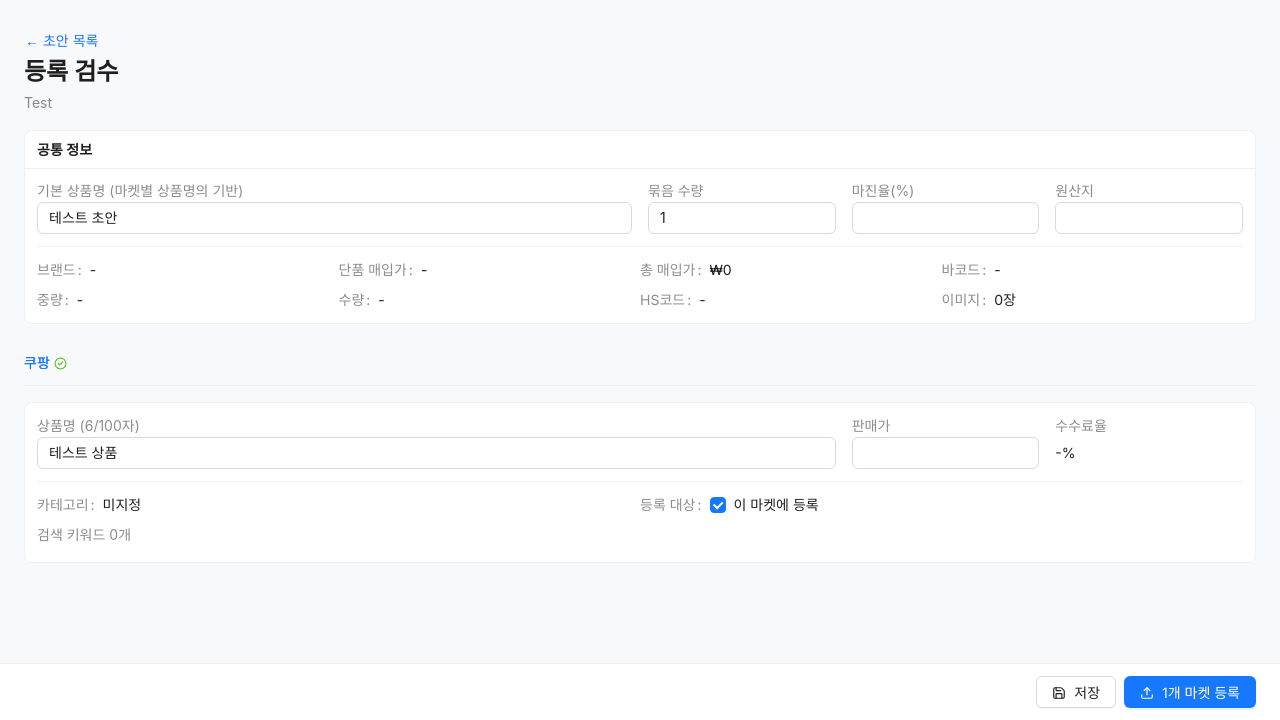
it: 추천상품 초안 등록 대상 › 등록 요청 오류 후 현재 초안을 다시 읽어 생성된 상품의 공통정보를 즉시 잠근다
Expected: the field showing "테스트 초안" below "기본 상품명 (마켓별 상품명의 기반)" is shown, x1=37 y1=202 x2=632 y2=234
Click the button "1개 마켓 등록" at point(1190, 692), box x1=1124 y1=676 x2=1256 y2=708
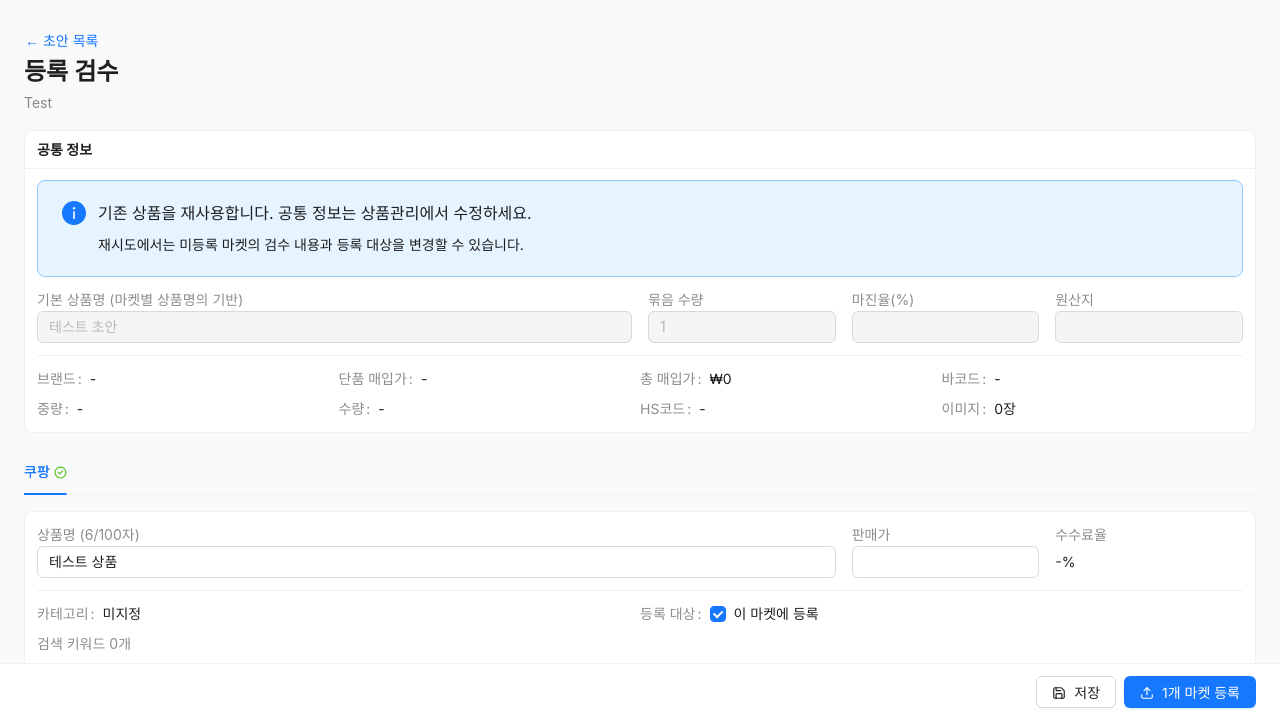
Expected: the field showing "테스트 상품" below "100" is enabled, x1=37 y1=546 x2=836 y2=578
Result: the field showing "테스트 초안" below "기본 상품명 (마켓별 상품명의 기반)" is disabled at x1=37 y1=311 x2=632 y2=343
